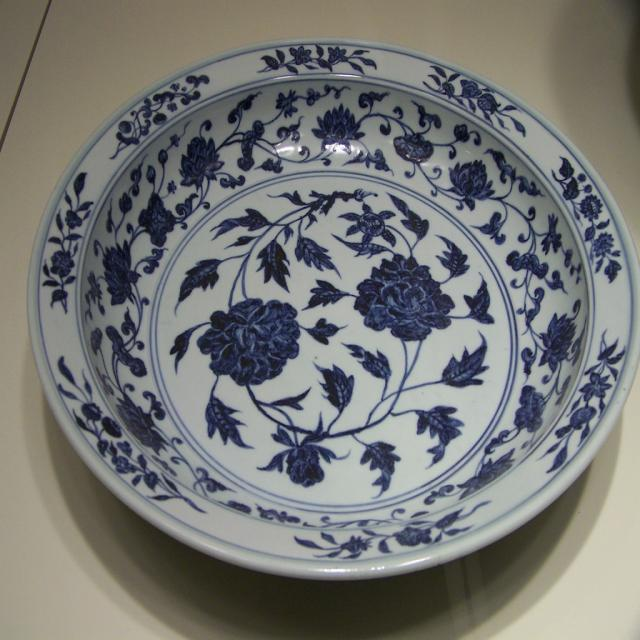ceramic plate: (12, 50, 620, 582)
